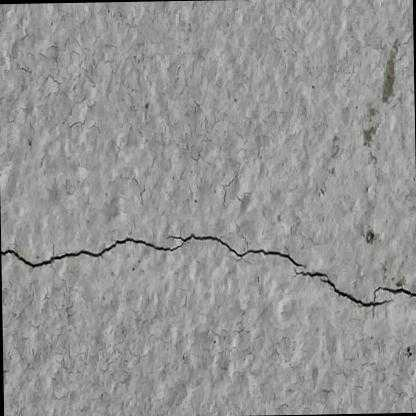crack: (1, 233, 305, 269), (292, 271, 388, 308), (373, 284, 416, 298)
